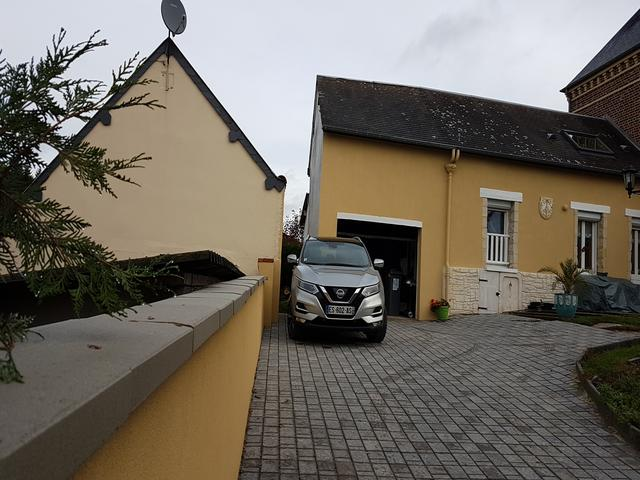Quashquai: (317, 300, 360, 319)
